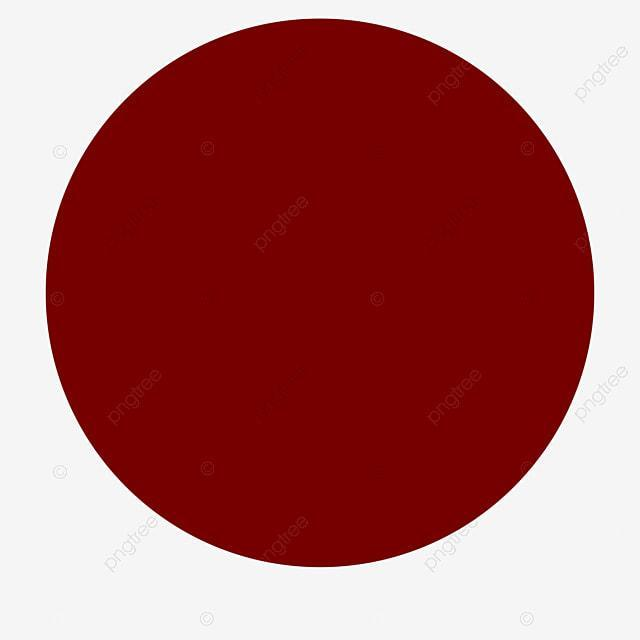Circle: (44, 19, 595, 570)
